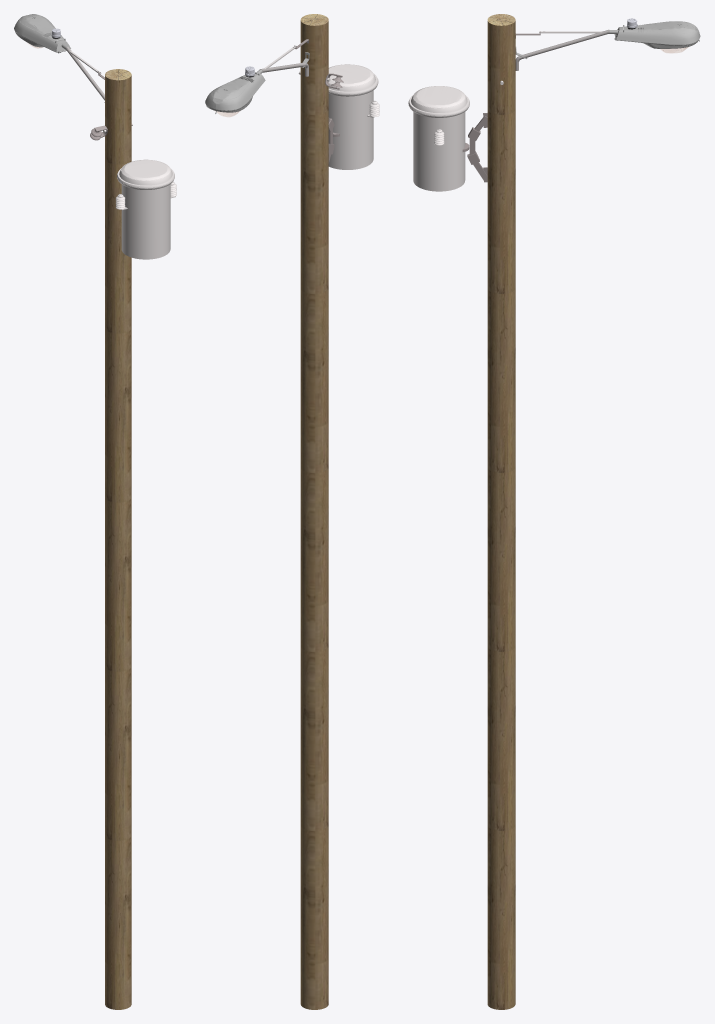
The model's file is ael_115_utility_pole.glb.
The picture shows the model from 3 angles, left to right: view 1: azimuth 30°, elevation 25°; view 2: azimuth 150°, elevation 25°; view 3: azimuth 270°, elevation 25°; orthographic projection. The views are drawn at different scales.
Visible parts, largest first — view 1: Object_337, Object_356, Object_366, Object_177; view 2: Object_337, Object_356, Object_366, Object_177; view 3: Object_337, Object_356, Object_366, Object_174.
Part boxes in pixels (box(x1,y1,x2,y2)): Object_337: box(105, 75, 131, 1009); Object_356: box(121, 184, 170, 259); Object_366: box(121, 159, 170, 180); Object_177: box(14, 20, 63, 52); Object_337: box(300, 21, 328, 1009); Object_356: box(328, 90, 373, 169); Object_366: box(328, 64, 373, 86); Object_177: box(232, 72, 265, 108); Object_337: box(487, 21, 515, 1009); Object_356: box(413, 112, 465, 191); Object_366: box(413, 86, 465, 108); Object_174: box(616, 27, 688, 44).
Bounding box in the file's own units: 0.6492 × 9.61 × 2.58.
20 materials, 4 textured.
